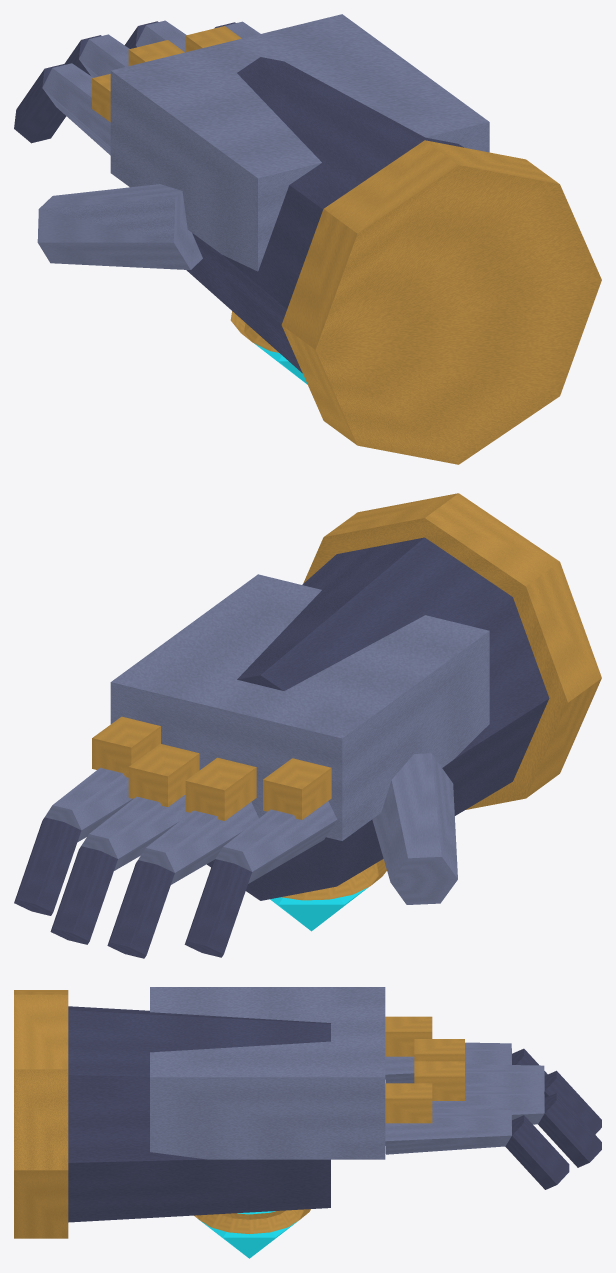
The model's file is gauntlet.glb.
The picture shows the model from 3 angles, top to bottom: view 1: azimuth 30°, elevation 25°; view 2: azimuth 150°, elevation 25°; view 3: azimuth 270°, elevation 25°; orthographic projection. The views are drawn at different scales.
Visible parts, largest first — view 1: gauntlet; view 2: gauntlet; view 3: gauntlet.
Part boxes in pixels (left/top/right/bottom): gauntlet: left=14, top=14, right=601, bottom=464; gauntlet: left=14, top=493, right=601, bottom=958; gauntlet: left=14, top=987, right=601, bottom=1258.
Bounding box in the file's own units: 0.1801 × 0.161 × 0.3247.
1 material, 1 textured.
